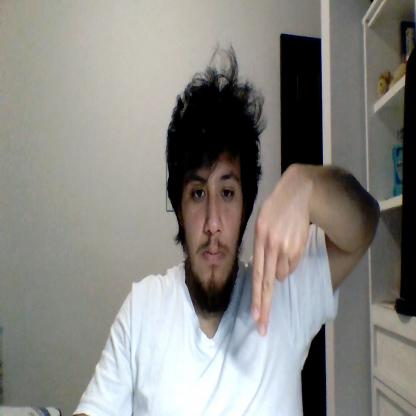N: (253, 163, 310, 335)
